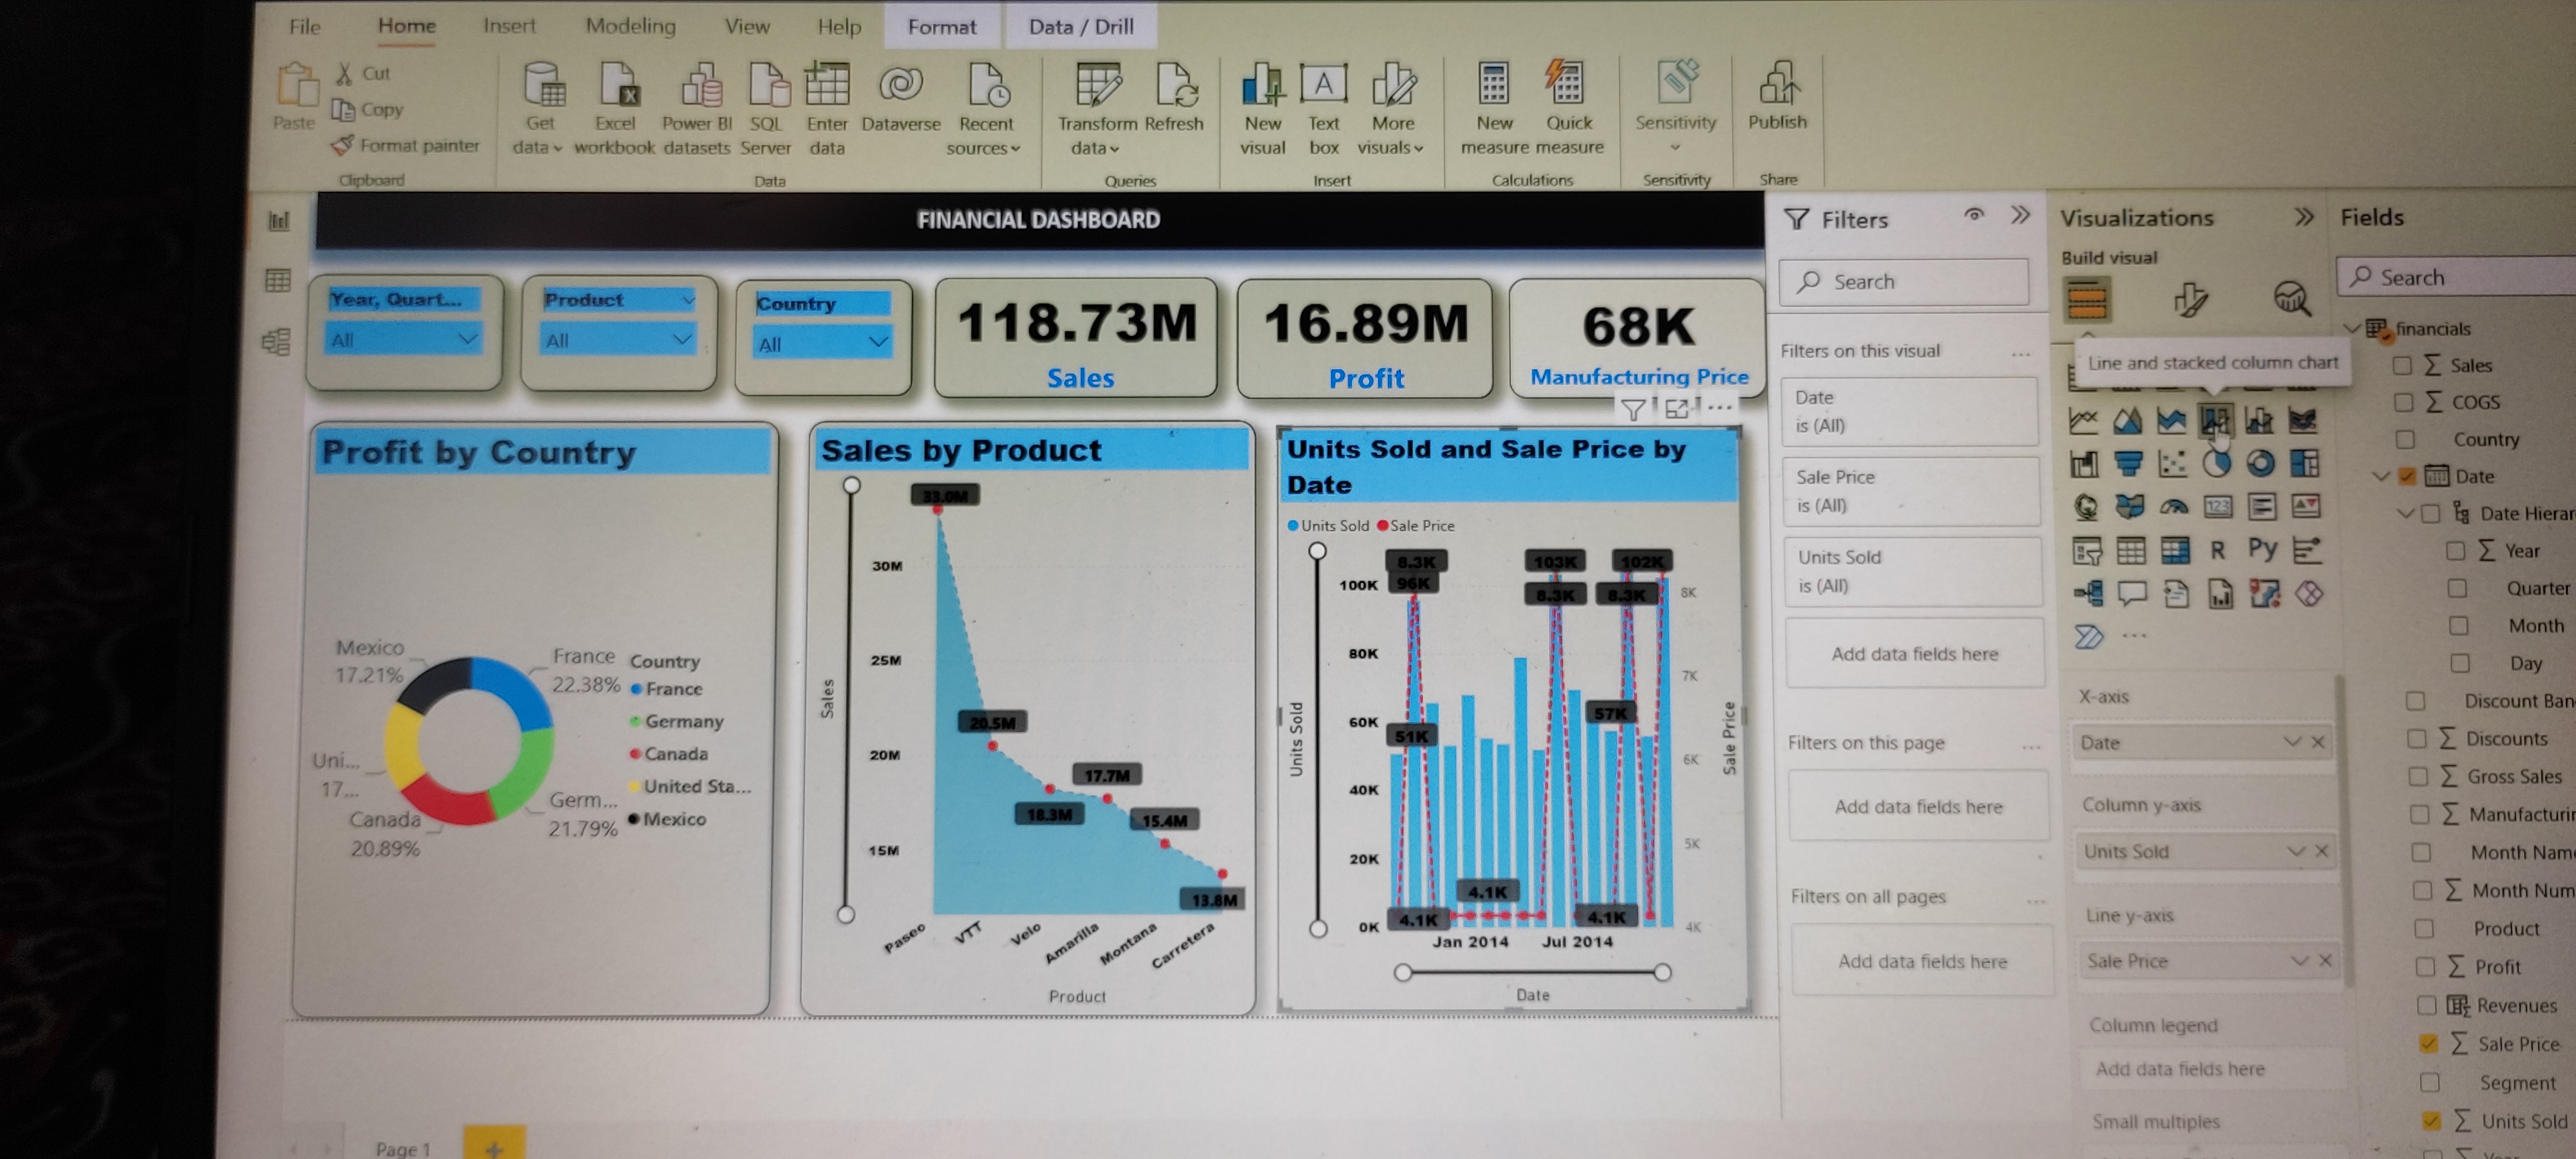

The dashboard page shown, as its layout file describes it:
{"tool":"powerbi","page":{"name":"Page 1","canvas":[1280,720],"ordinal":0},"visuals":[{"type":"shape","box":[5.4,0,1274.6,52.7],"z":0},{"type":"textbox","box":[494.5,8.3,290.9,36],"z":1000},{"type":"slicer","fields":{"Values":["financials.Date.Variation.Date Hierarchy.Year","financials.Date.Variation.Date Hierarchy.Quarter","financials.Date.Variation.Date Hierarchy.Month","financials.Date.Variation.Date Hierarchy.Day"]},"box":[0,74.9,170.9,103.4],"z":2000},{"type":"slicer","fields":{"Values":["financials.Product"]},"box":[185.9,74.9,170.9,103.4],"z":3000},{"type":"slicer","fields":{"Values":["financials.Country"]},"box":[373.2,77.9,155.9,103.4],"z":4000},{"type":"card","fields":{"Values":["Sum(financials. Sales)"]},"box":[548.6,76.4,248.8,106.4],"z":5000},{"type":"card","fields":{"Values":["Sum(financials.Profit)"]},"box":[815.4,77.9,224.8,106.4],"z":6000},{"type":"card","fields":{"Values":["Sum(financials.Manufacturing Price)"]},"box":[1054.5,78.3,225.5,106.7],"z":7000},{"type":"donutChart","fields":{"Y":["Sum(financials.Profit)"],"Category":["financials.Country","financials.Product"]},"box":[5.4,204.6,407.8,515.5],"z":8000},{"type":"areaChart","fields":{"Y":["Sum(financials. Sales)"],"Category":["financials.Product"]},"box":[438.8,204.1,392.4,515.9],"z":9000},{"type":"lineStackedColumnComboChart","fields":{"Category":["financials.Date"],"Y":["Sum(financials.Units Sold)"],"Y2":["Sum(financials.Sale Price)"]},"box":[850.6,210,405.1,506.1],"z":9001}]}

Visuals, with their boxes on the page's 1280x720 design canvas (x1, y1, x2, y2). These are canvas units, not pixel positions in the 2576x1159 screenshot, which may show the page scaled, cropped or inside an application window:
shape: bbox=(5, 0, 1280, 53)
textbox: bbox=(494, 8, 785, 44)
slicer - financials.Date.Variation.Date Hierarchy.Year x financials.Date.Variation.Date Hierarchy.Quarter: bbox=(0, 75, 171, 178)
slicer - financials.Product: bbox=(186, 75, 357, 178)
slicer - financials.Country: bbox=(373, 78, 529, 181)
card - Sum(financials. Sales): bbox=(549, 76, 797, 183)
card - Sum(financials.Profit): bbox=(815, 78, 1040, 184)
card - Sum(financials.Manufacturing Price): bbox=(1054, 78, 1280, 185)
donutChart - Sum(financials.Profit) x financials.Country: bbox=(5, 205, 413, 720)
areaChart - Sum(financials. Sales) x financials.Product: bbox=(439, 204, 831, 720)
lineStackedColumnComboChart - financials.Date x Sum(financials.Units Sold): bbox=(851, 210, 1256, 716)
